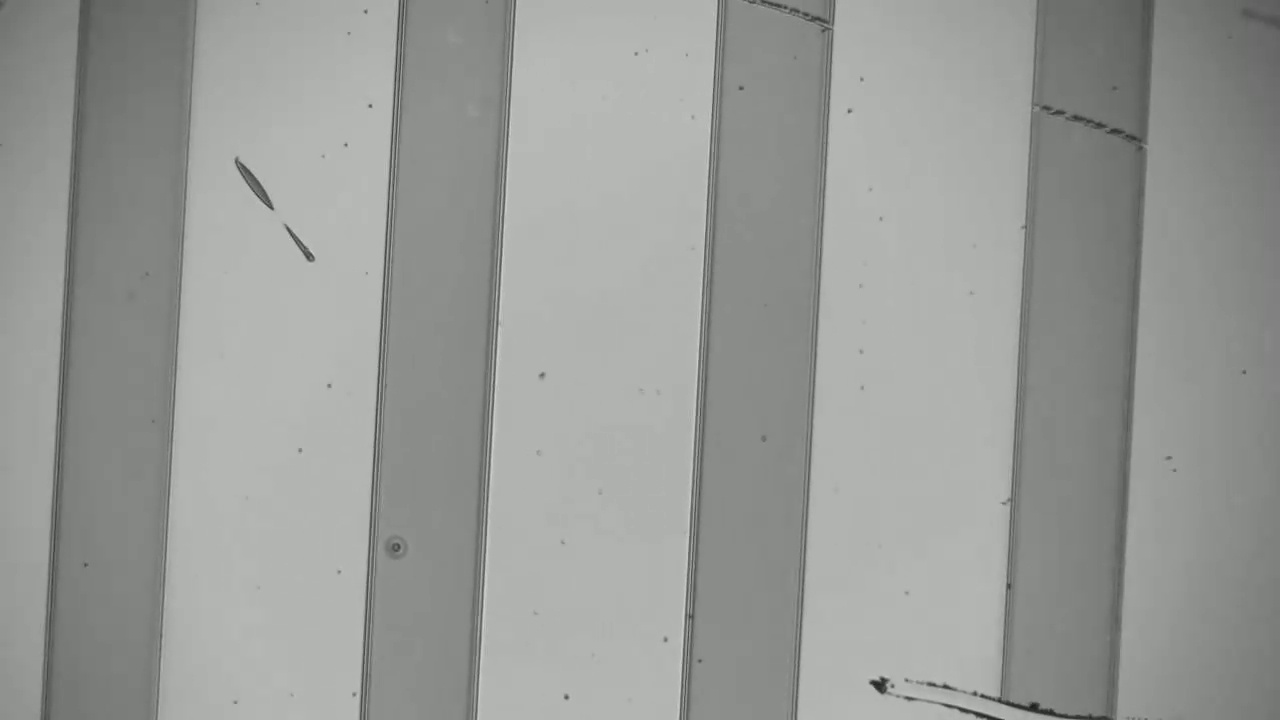Short_circuit: (946, 666, 1159, 720)
scratch: (1046, 97, 1141, 141), (746, 1, 820, 20)
